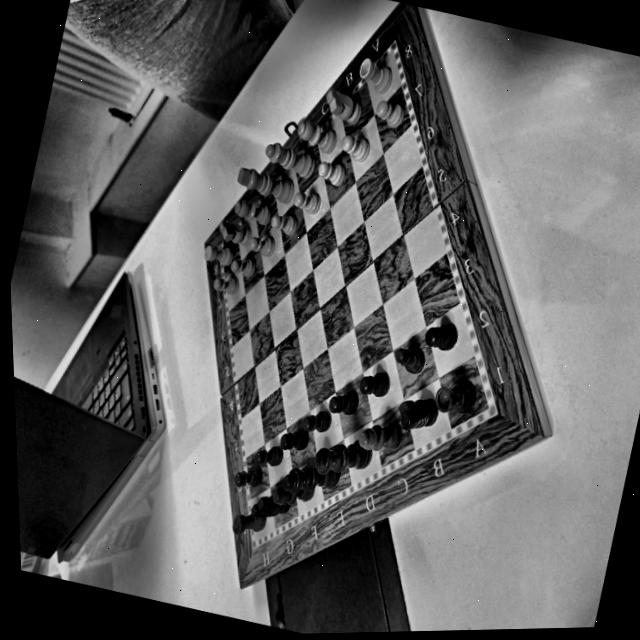black-bishop: (356, 413, 406, 461), (267, 482, 316, 515)
black-king: (303, 431, 377, 485)
black-knight: (391, 391, 441, 437), (246, 490, 294, 524)
black-pawn: (227, 455, 267, 495), (420, 317, 462, 355), (324, 383, 363, 422), (387, 341, 429, 376), (357, 363, 394, 402), (299, 403, 334, 438), (276, 423, 311, 458), (250, 439, 287, 472)
black-queen: (279, 458, 344, 507)
black-rook: (429, 376, 478, 417), (224, 507, 266, 541)
white-bishop: (291, 117, 341, 157), (229, 195, 274, 228)
white-king: (231, 161, 296, 208)
white-knight: (317, 83, 369, 131), (215, 216, 255, 249)
white-pawn: (371, 94, 409, 133), (336, 127, 373, 167), (315, 156, 348, 190), (291, 186, 323, 217), (267, 209, 300, 238), (246, 230, 275, 261), (229, 252, 256, 278), (210, 274, 239, 298)
white-queen: (257, 136, 322, 182)
white-rook: (348, 50, 399, 98), (200, 237, 236, 269)
